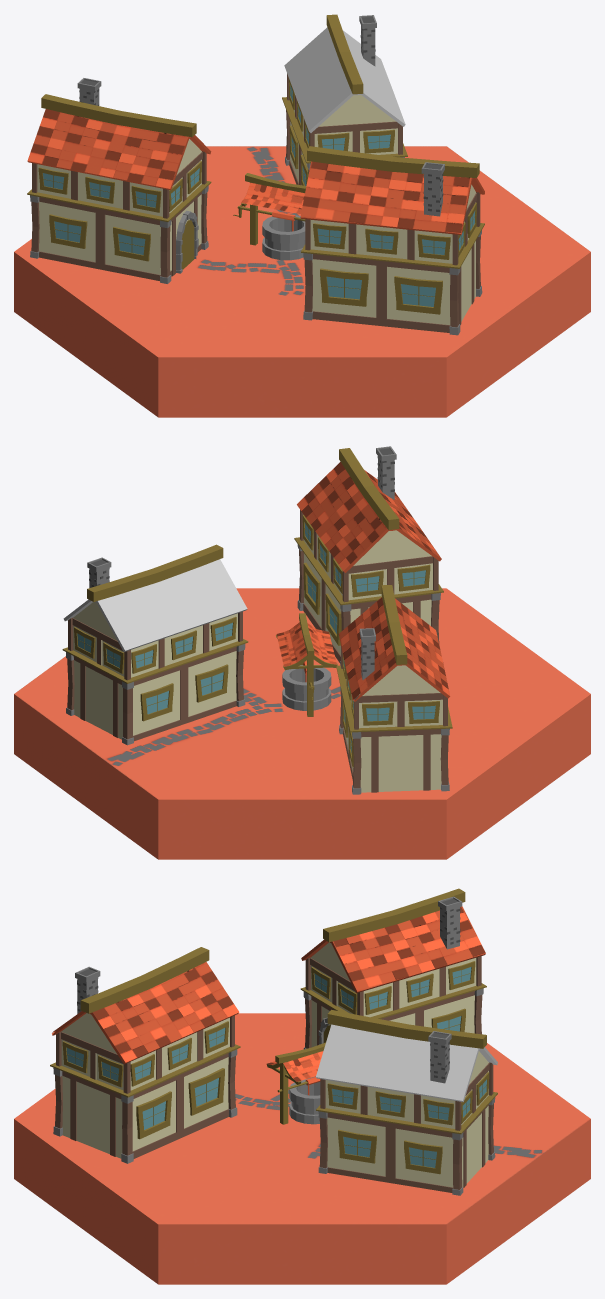
File: Tuile_Village_N3.fbx
3 views of the same model, one above another, from view 1: azimuth 30°, elevation 25°; view 2: azimuth 150°, elevation 25°; view 3: azimuth 270°, elevation 25° (orthographic).
Visible parts, largest first — view 1: CHEMIN, toit.001, toit.004, base House.003, base House.001, toit.005, windows bas.003, etage.004, etage.005, etage.001, poutre toit.003, poutre toit.001 (+19 smaller); view 2: CHEMIN, toit.005, base House.002, toit.001, toit.004, base House.001, etage.001, etage.005, etage.004, poutre toit.002, base House.003, windows bas.002 (+20 smaller); view 3: CHEMIN, base House.003, toit.001, toit.005, base House.002, toit.004, etage.001, etage.004, etage.005, windows bas.003, poutre toit.003, poutre toit.002 (+24 smaller).
Part boxes in pixels (left/top/right/bottom): CHEMIN: left=14, top=146, right=590, bottom=417; toit.001: left=300, top=161, right=484, bottom=234; toit.004: left=27, top=109, right=211, bottom=190; base House.003: left=312, top=241, right=475, bottom=332; base House.001: left=39, top=192, right=201, bottom=280; toit.005: left=284, top=27, right=405, bottom=132; windows bas.003: left=320, top=268, right=442, bottom=314; etage.004: left=37, top=139, right=202, bottom=216; etage.005: left=294, top=95, right=397, bottom=154; etage.001: left=310, top=184, right=476, bottom=263; poutre toit.003: left=307, top=146, right=479, bottom=177; poutre toit.001: left=41, top=94, right=196, bottom=137; CHEMIN: left=14, top=588, right=590, bottom=859; toit.005: left=63, top=559, right=247, bottom=651; base House.002: left=73, top=646, right=236, bottom=741; toit.001: left=297, top=462, right=441, bottom=572; toit.004: left=338, top=597, right=450, bottom=701; base House.001: left=343, top=725, right=441, bottom=792; etage.001: left=303, top=530, right=433, bottom=600; etage.005: left=72, top=602, right=237, bottom=677; etage.004: left=346, top=665, right=442, bottom=728; poutre toit.002: left=87, top=544, right=223, bottom=601; base House.003: left=303, top=553, right=431, bottom=663; windows bas.002: left=140, top=664, right=228, bottom=721; CHEMIN: left=14, top=1013, right=590, bottom=1284; base House.003: left=62, top=1053, right=228, bottom=1158; toit.001: left=52, top=962, right=239, bottom=1064; toit.005: left=316, top=1024, right=497, bottom=1102; base House.002: left=327, top=1104, right=488, bottom=1192; toit.004: left=301, top=906, right=485, bottom=993; etage.001: left=61, top=1013, right=229, bottom=1090; etage.004: left=310, top=942, right=476, bottom=1017; etage.005: left=325, top=1051, right=489, bottom=1128; windows bas.003: left=136, top=1068, right=224, bottom=1139; poutre toit.003: left=80, top=947, right=209, bottom=1013; poutre toit.002: left=327, top=1009, right=486, bottom=1048.
Size of the model in its own units: 107 by 51.67 by 124.
